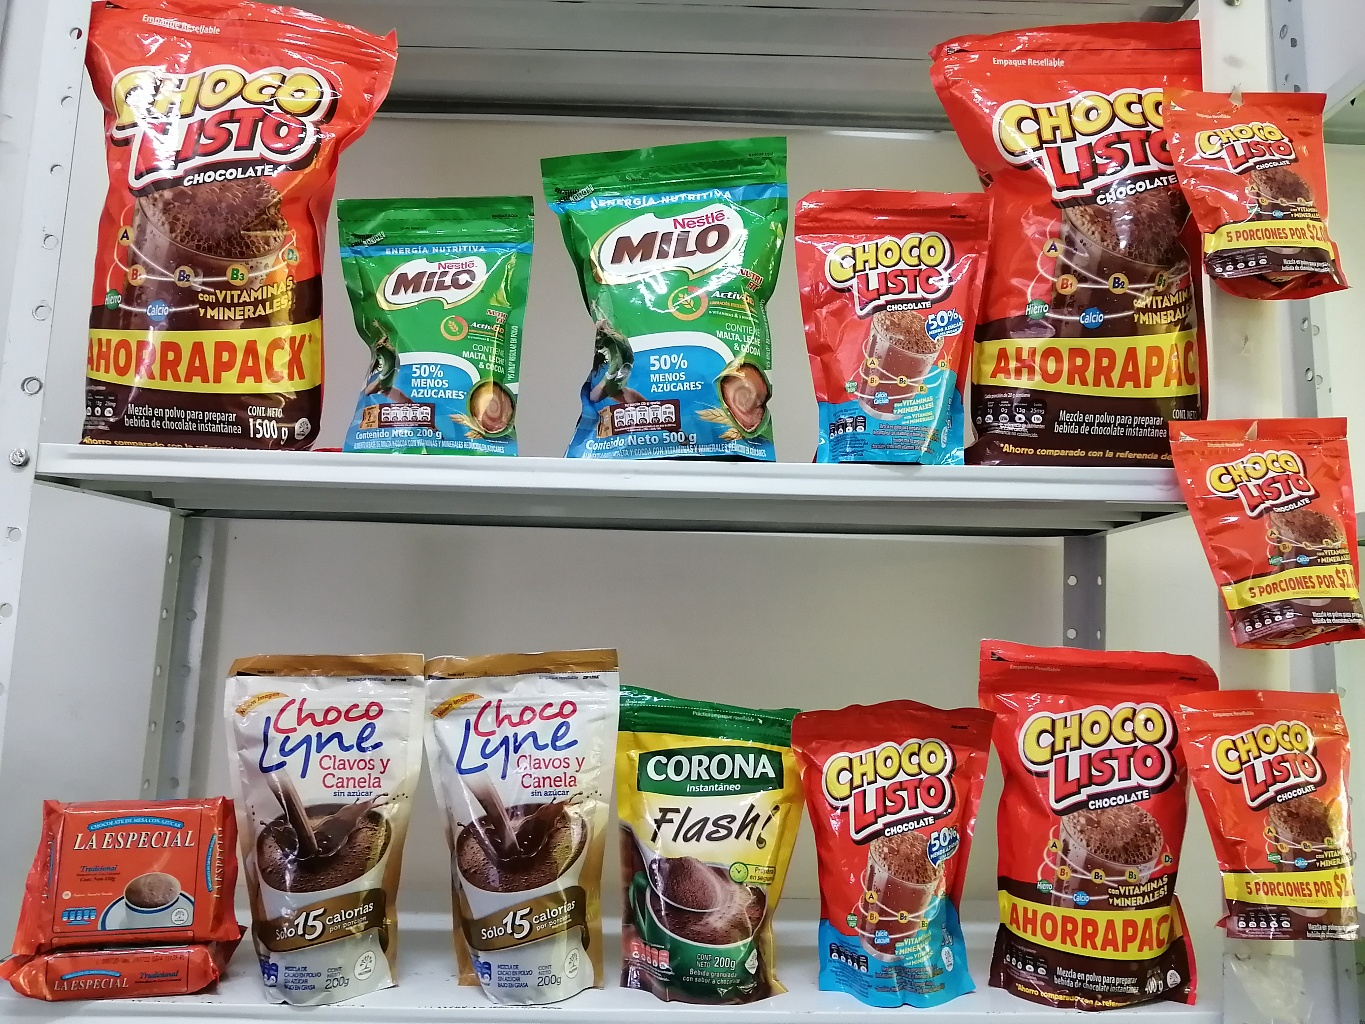COL0170103DYP1,500: (85, 0, 401, 453)
COL0170103DYP10000: (1176, 401, 1354, 648)
COL0170103DYP40000: (976, 640, 1215, 1013)
COL0170104DYP20000: (790, 184, 992, 471)
COL0170205DYP20000: (341, 186, 542, 451)
COL0170205DYP50000: (541, 118, 790, 460)
